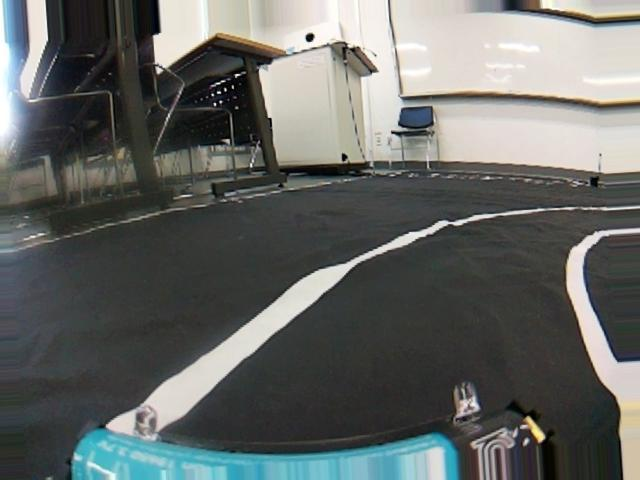right: (0, 187, 640, 480)
